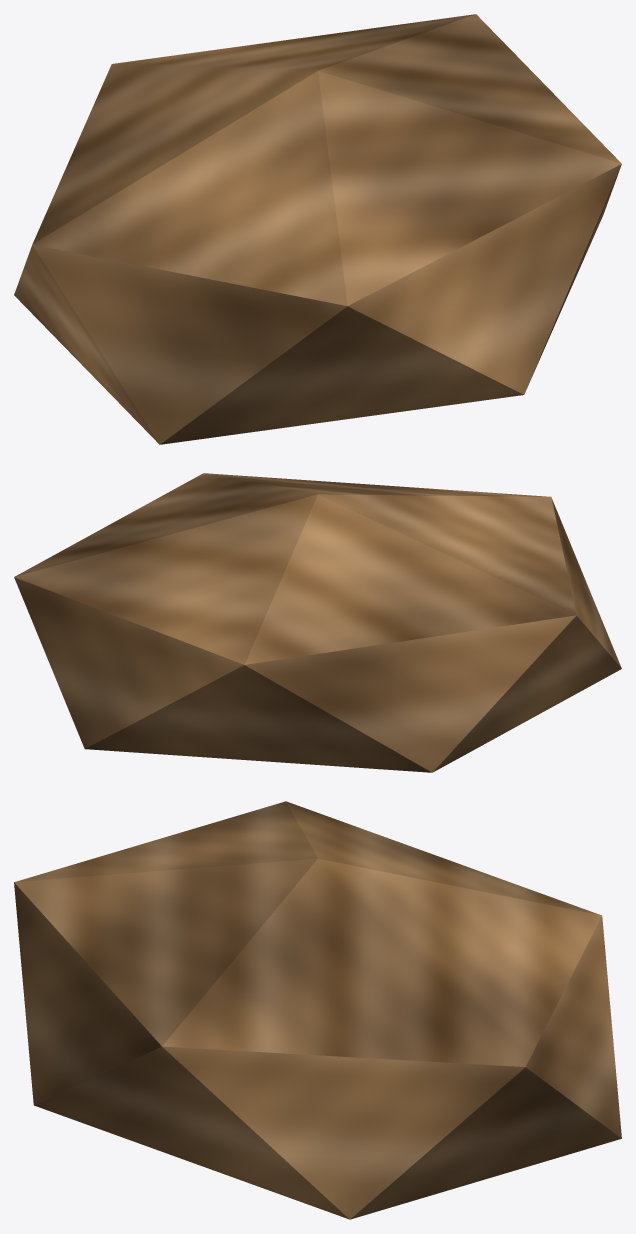
File: 2014_sandstone_talus_09.dae
3 views of the same model, one above another, from view 1: azimuth 30°, elevation 25°; view 2: azimuth 150°, elevation 25°; view 3: azimuth 270°, elevation 25° (orthographic). The views are drawn at different scales.
Parts seen in each view (by area): view 1: Node; view 2: Node; view 3: Node.
Boxes of the visible parts, x1=… form: Node: x1=14, y1=14, x2=621, y2=444; Node: x1=14, y1=473, x2=621, y2=772; Node: x1=14, y1=801, x2=621, y2=1219.
Size of the model in its own units: 1.12 by 1.02 by 0.564.
1 material, 1 textured.
